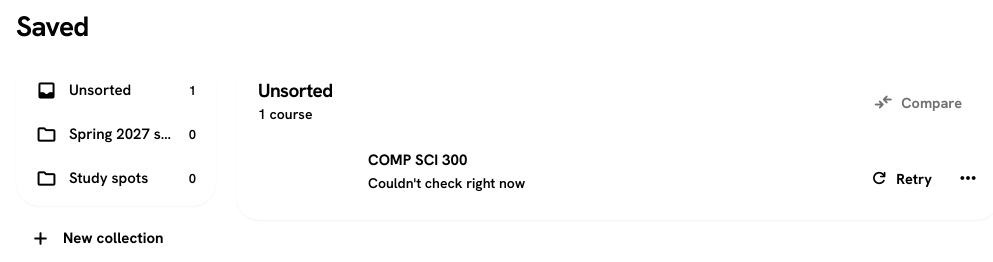
a 503 shows "Couldn't check right now" with Retry, never Remove
Expected: the text "Couldn't check right now" is shown, x1=368 y1=174 x2=525 y2=192
Click the button with aria-label "Retry checking COMP SCI 300".
click(901, 178)  # box x1=858 y1=158 x2=944 y2=198
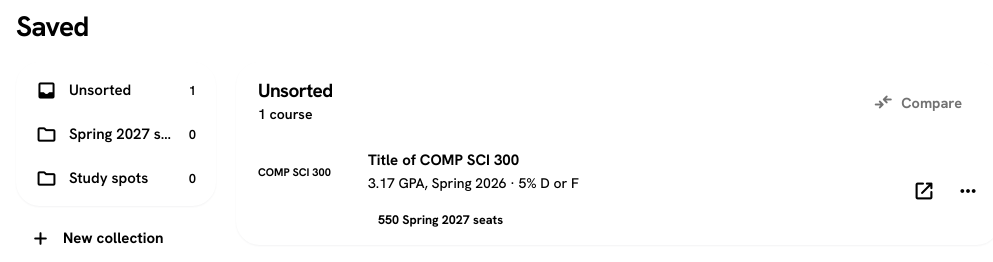
Result: the text "Title of COMP SCI 300" is shown at x1=368 y1=150 x2=519 y2=170
